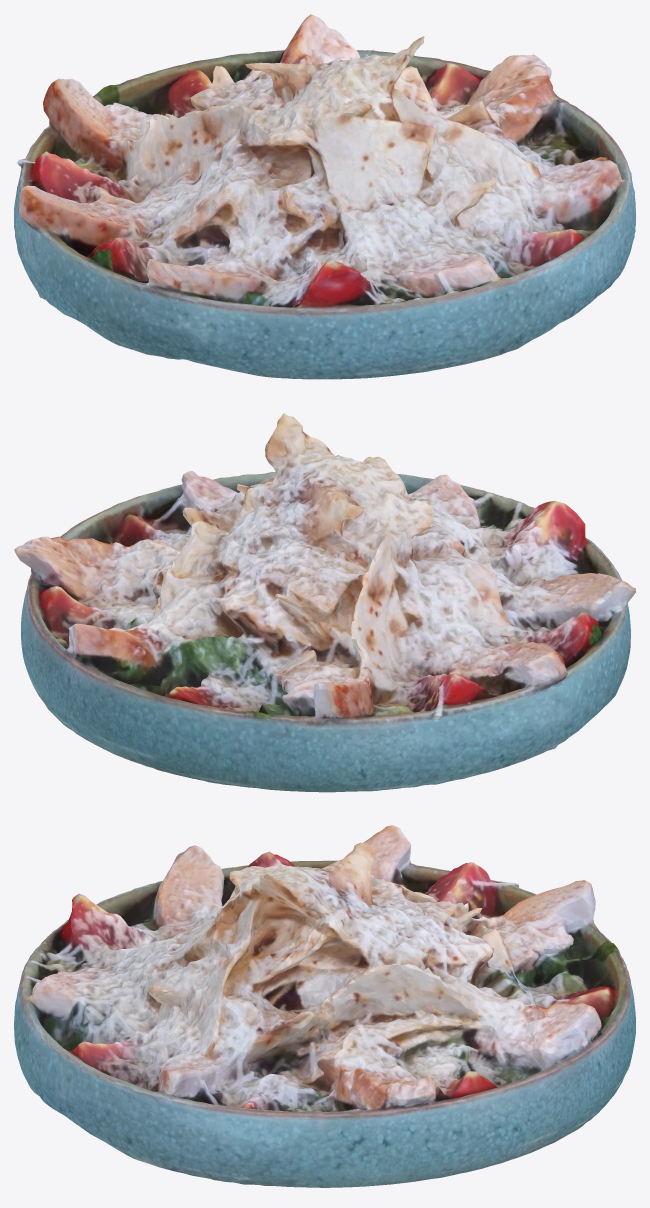
File: chicken.salad.final.glb
The picture shows the model from 3 angles, top to bottom: view 1: azimuth 30°, elevation 25°; view 2: azimuth 150°, elevation 25°; view 3: azimuth 270°, elevation 25°; orthographic projection. The views are drawn at different scales.
Visible parts, largest first — view 1: object 1; view 2: object 1; view 3: object 1.
Boxes of the visible parts, x1,y1,x2,y2 form: object 1: [14, 14, 635, 379]; object 1: [14, 413, 635, 792]; object 1: [14, 825, 635, 1187].
Size of the model in its own units: 0.2025 by 0.08 by 0.1992.
Materials: 2 (1 with a texture image).
